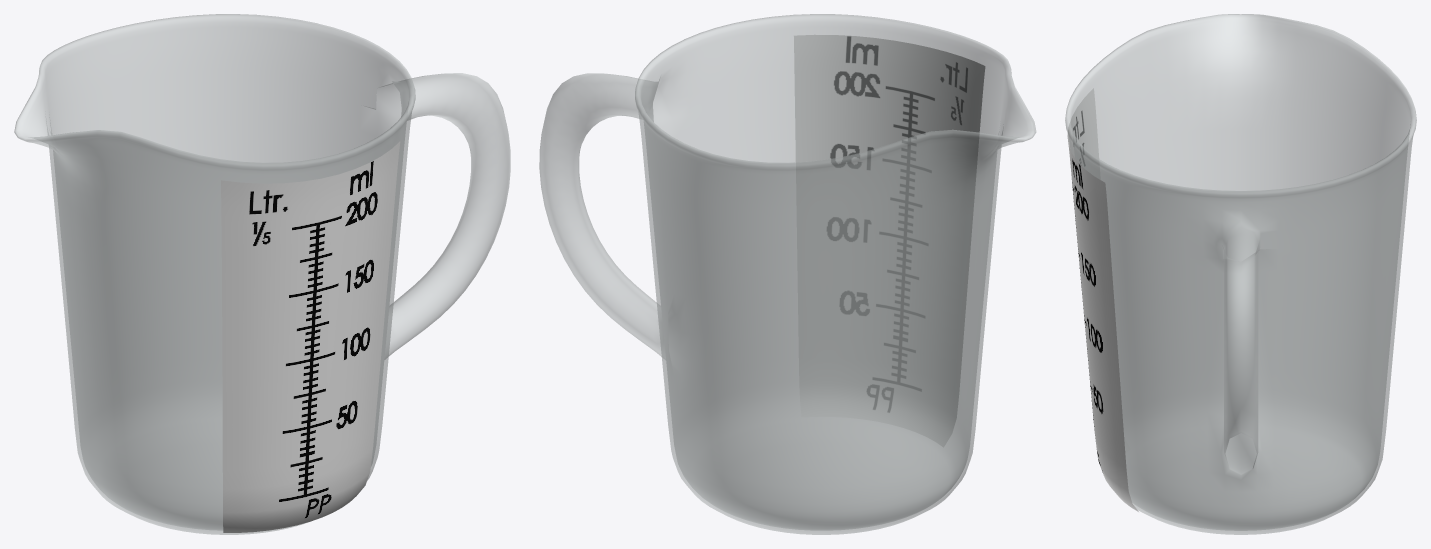
File: Gelas_Ukur.fbx
The picture shows the model from 3 angles, left to right: view 1: azimuth 30°, elevation 25°; view 2: azimuth 150°, elevation 25°; view 3: azimuth 270°, elevation 25°; orthographic projection. The views are drawn at different scales.
Parts seen in each view (by area): view 1: gelas ukur; view 2: gelas ukur; view 3: gelas ukur.
Part boxes in pixels (x1,y1,x2,y2): gelas ukur: (14, 14, 510, 534); gelas ukur: (539, 14, 1036, 534); gelas ukur: (1065, 14, 1416, 534).
Size of the model in its own units: 407 by 333 by 267.
